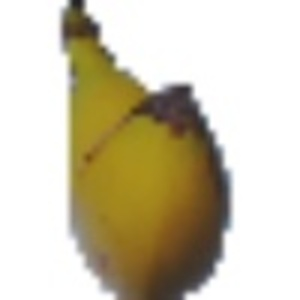banana: (61, 2, 235, 296)
